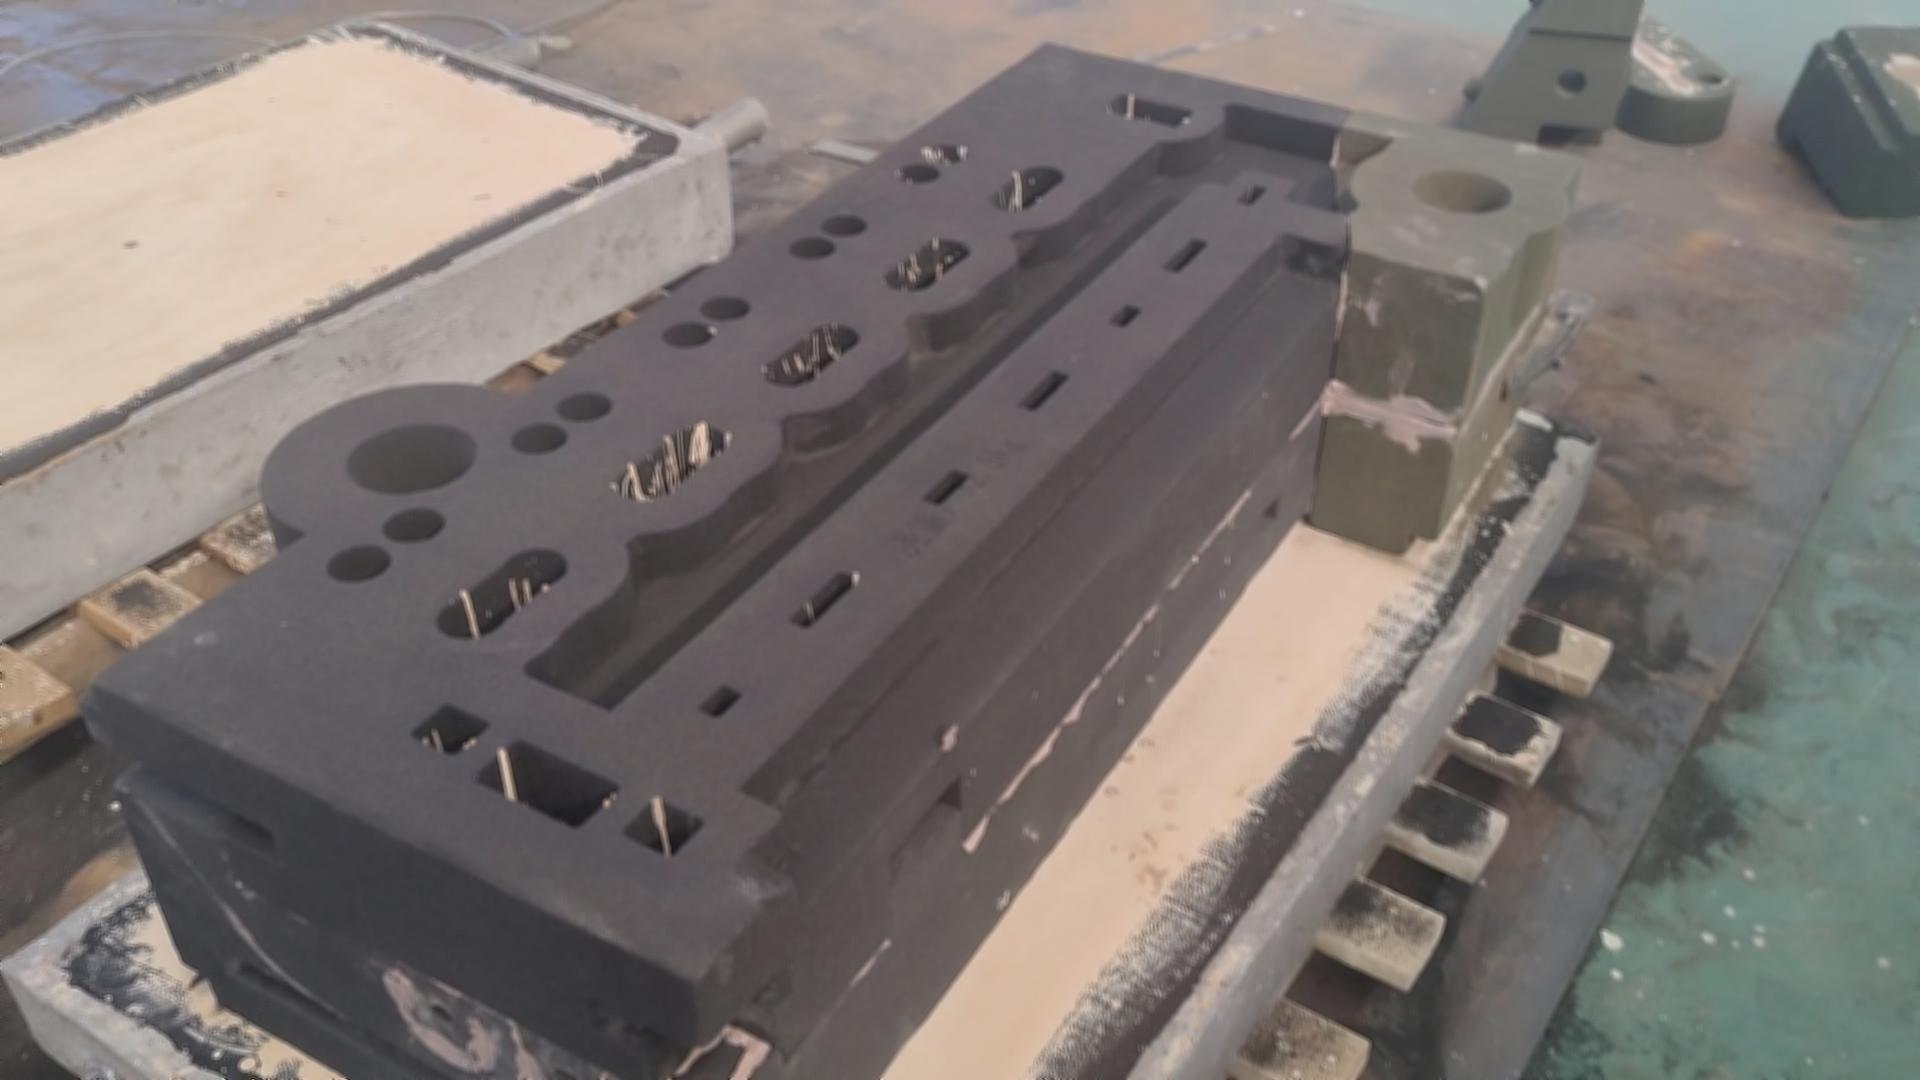pouring hole: (347, 425, 477, 495), (1414, 171, 1513, 214)
